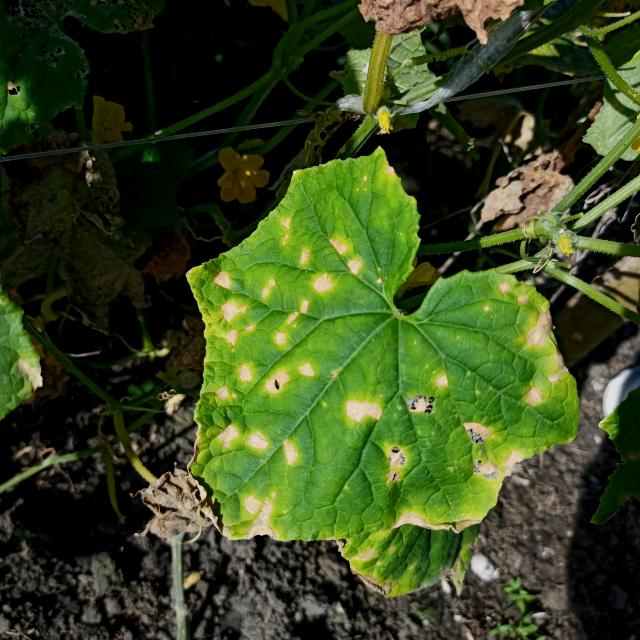disease_cucumber: (192, 216, 560, 540)
